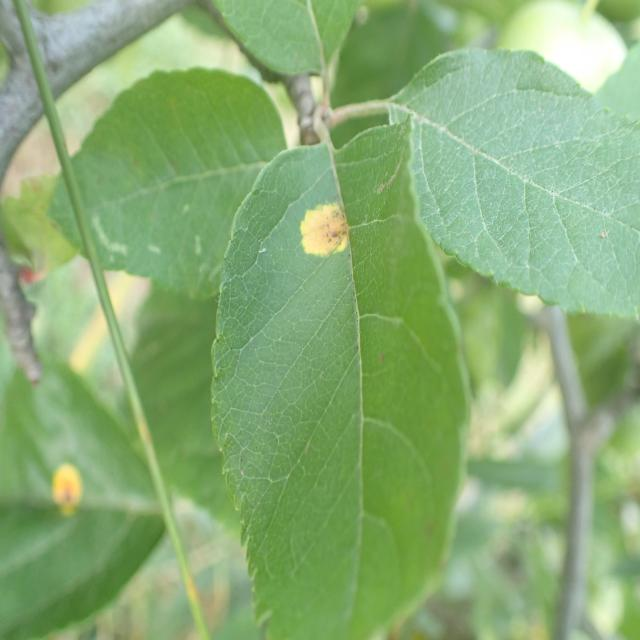Rust: (297, 181, 357, 278), (42, 458, 94, 522)
